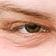eye: (25, 25, 41, 33)
